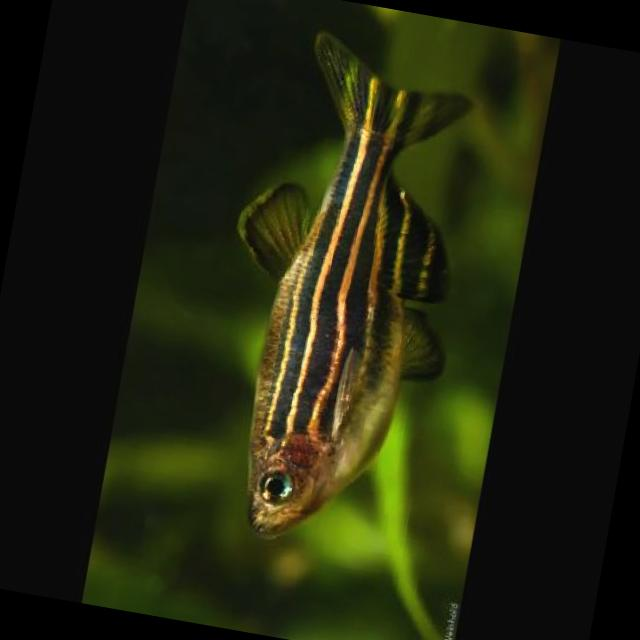ZebraFish: (187, 28, 491, 560)
